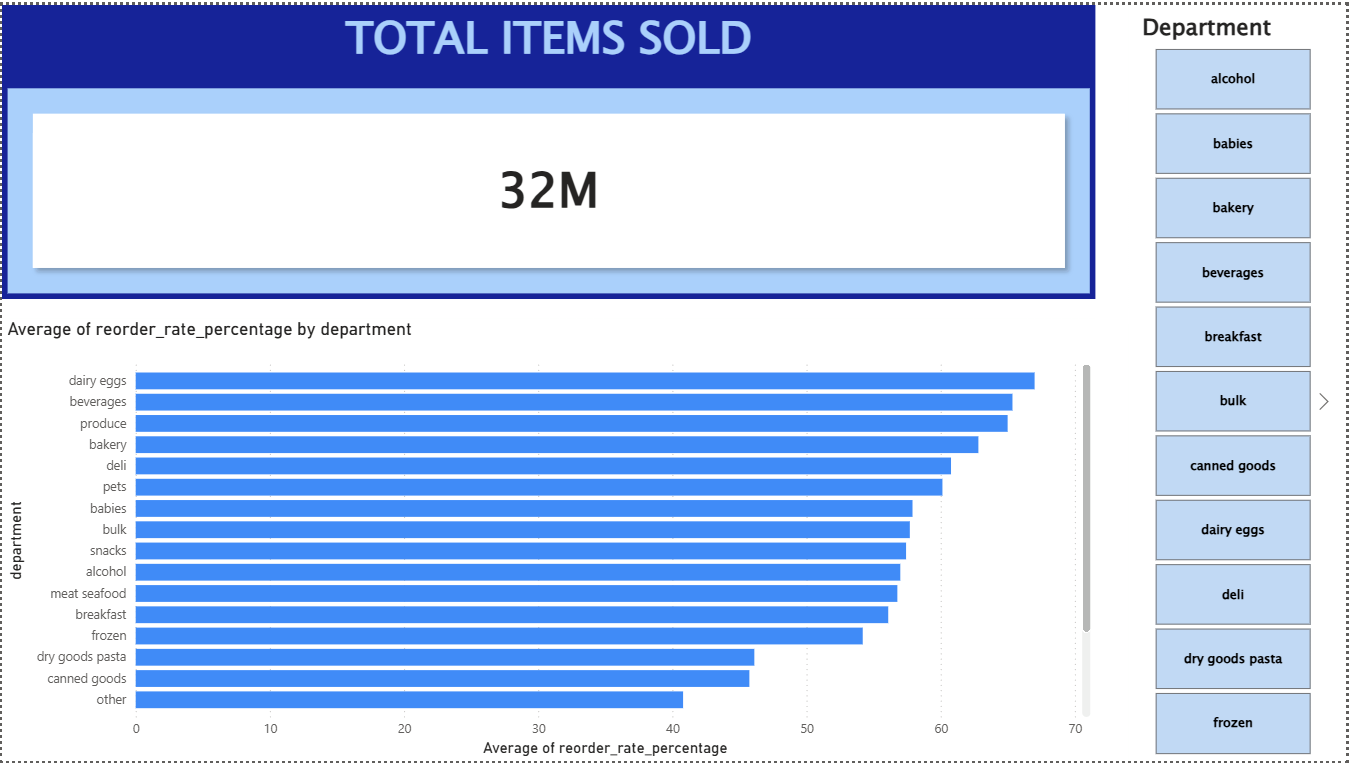

What the dashboard file says about the page in this screenshot:
{"tool":"powerbi","page":{"name":"Page 1","canvas":[1280,720],"ordinal":0},"visuals":[{"type":"cardVisual","title":"TOTAL ITEMS SOLD","fields":{"Data":["Sum(public vw_department_reorder_rates.total_items_sold)"]},"box":[0,0,1041.4,280],"z":0},{"type":"clusteredBarChart","title":"Customer Loyalty: Reorder Rate by Department","fields":{"Category":["public vw_department_reorder_rates.department"],"Y":["Avg(public vw_department_reorder_rates.reorder_rate_percentage)"]},"box":[0,298.6,1041.4,421.4],"z":1000},{"type":"slicer","fields":{"Values":["public vw_department_reorder_rates.department"]},"box":[1072.9,0,197.1,720],"z":2000}]}

Visuals, with their boxes in screenshot pixels (x1, y1, x2, y2), scaled from the page's 1280x720 canvas onto the 1351x763 screenshot:
"TOTAL ITEMS SOLD" cardVisual: box(0, 0, 1099, 297)
"Customer Loyalty: Reorder Rate by Department" clusteredBarChart: box(0, 316, 1099, 762)
slicer - public vw_department_reorder_rates.department: box(1132, 0, 1340, 762)
